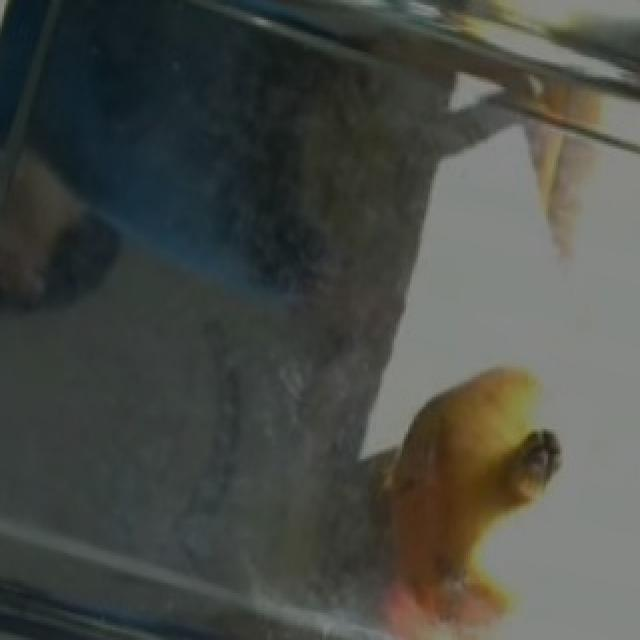fruit: (358, 337, 582, 541)
